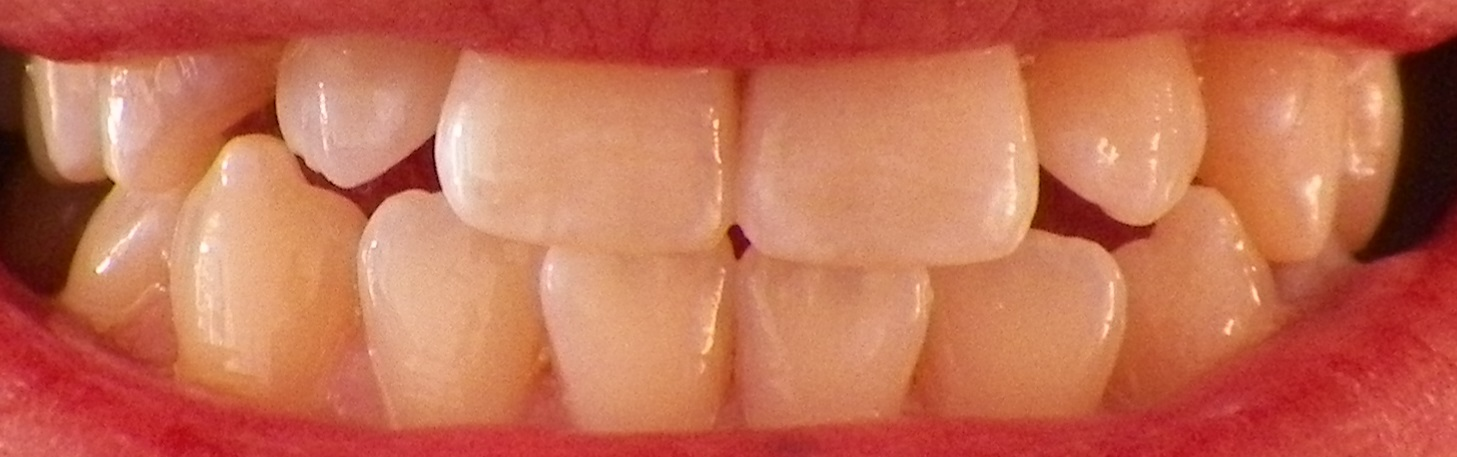boca: (22, 39, 1401, 422)
